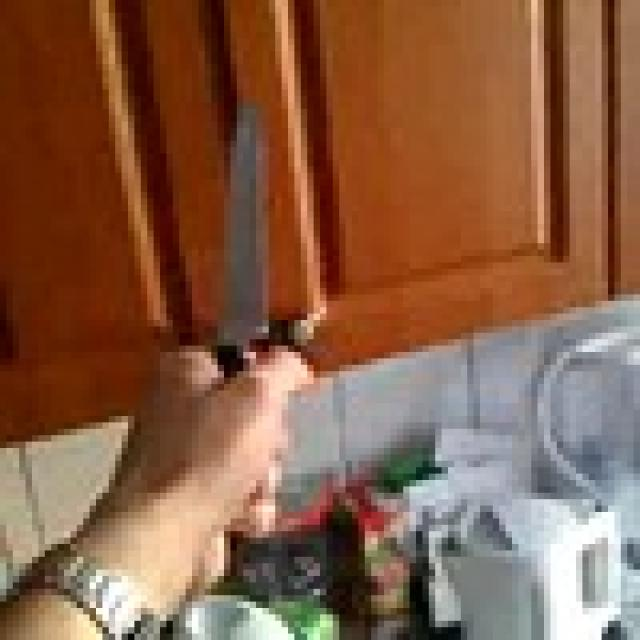Knife: (198, 96, 288, 397)
